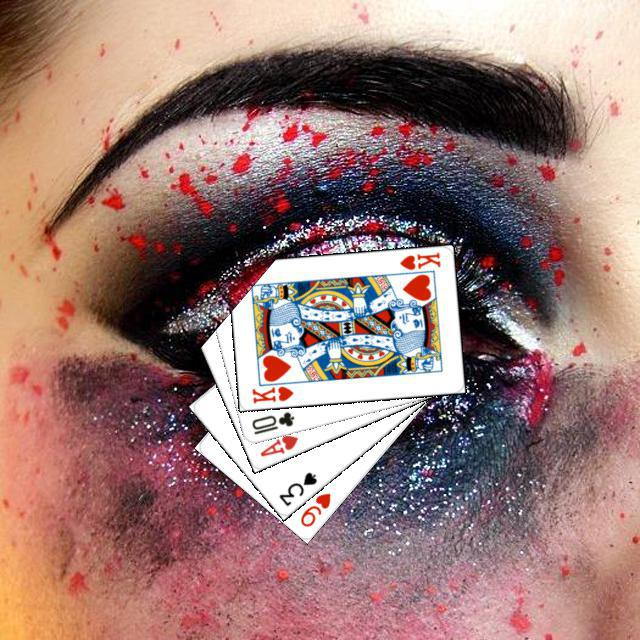10c: (247, 407, 296, 436)
3s: (274, 467, 319, 508)
9h: (295, 488, 332, 529)
Ah: (255, 430, 300, 458)
Kh: (247, 376, 298, 405), (395, 247, 442, 272)
